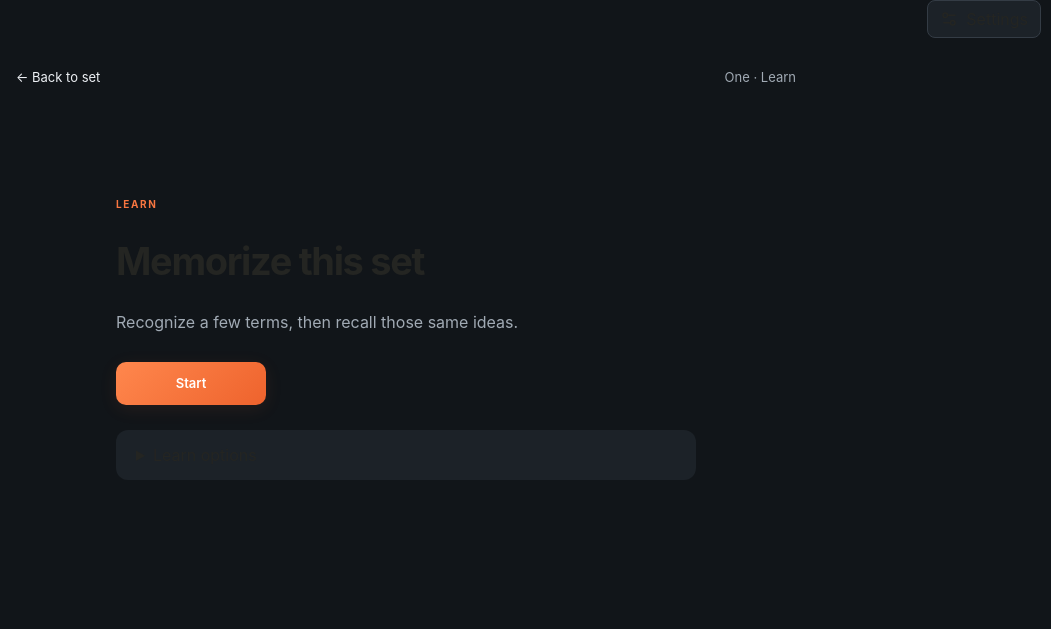
Test: Library and study polish › renders image/audio Learn choices without blank rectangles or changing recall direction
Click the button "Start".
click(191, 383)  # box [116,362,266,405]
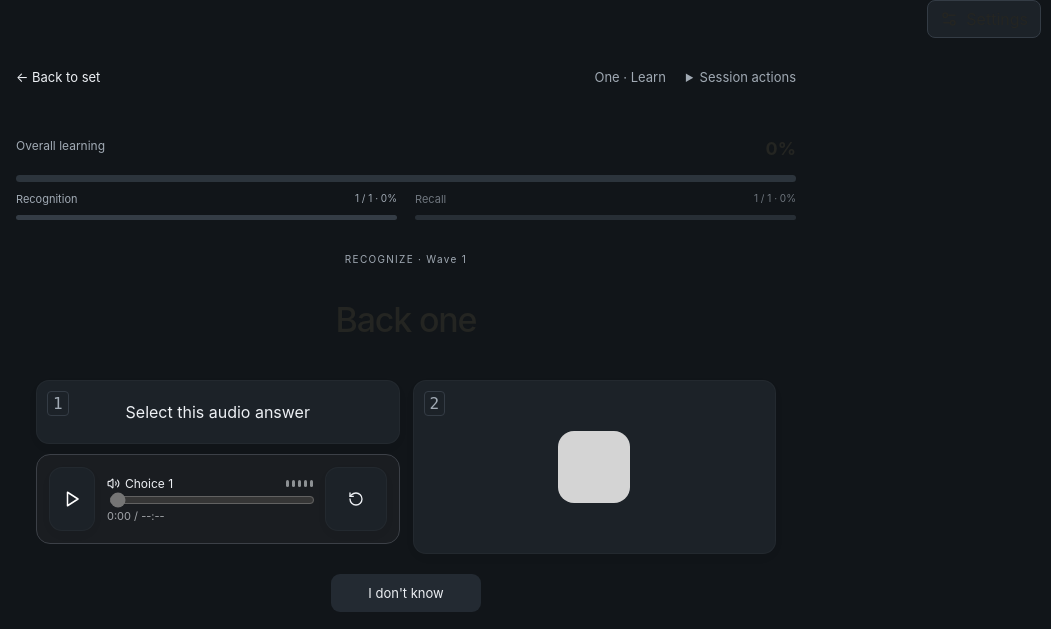
Check: the button "1 Select this audio answer" is shown, box [36,380,400,444]
Check: the button named "Play Choice" is shown, box [49,467,95,531]
